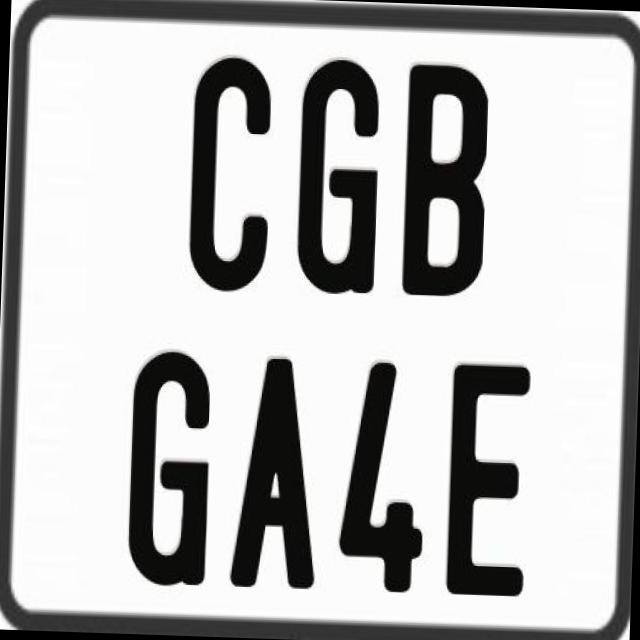4: (333, 356, 429, 588)
A: (229, 354, 328, 587)
B: (398, 64, 488, 302)
C: (188, 51, 274, 293)
E: (445, 358, 536, 595)
G: (125, 350, 212, 595), (294, 55, 381, 298)
